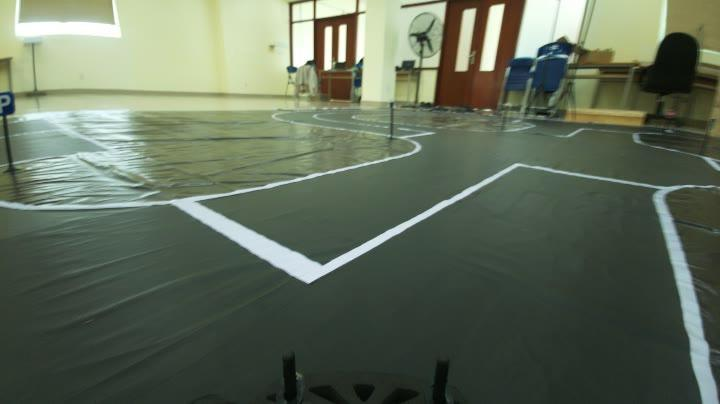parking: (0, 88, 14, 115)
